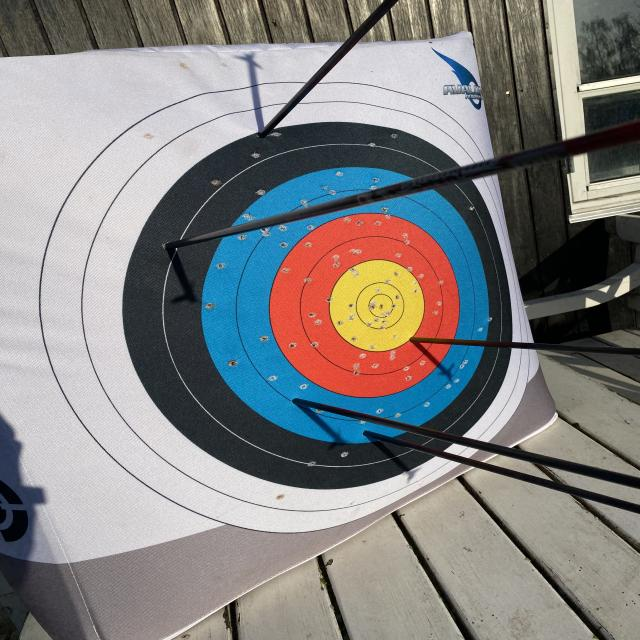Arrow_Black: (248, 120, 280, 148), (149, 236, 182, 262)
Arrow_Blue: (280, 391, 318, 419), (354, 422, 383, 445)
Arrow_Red: (389, 332, 432, 354)
